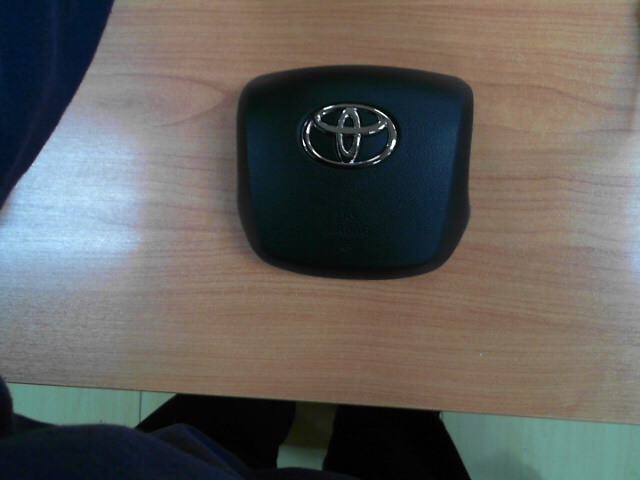Airbag: (238, 66, 470, 277)
